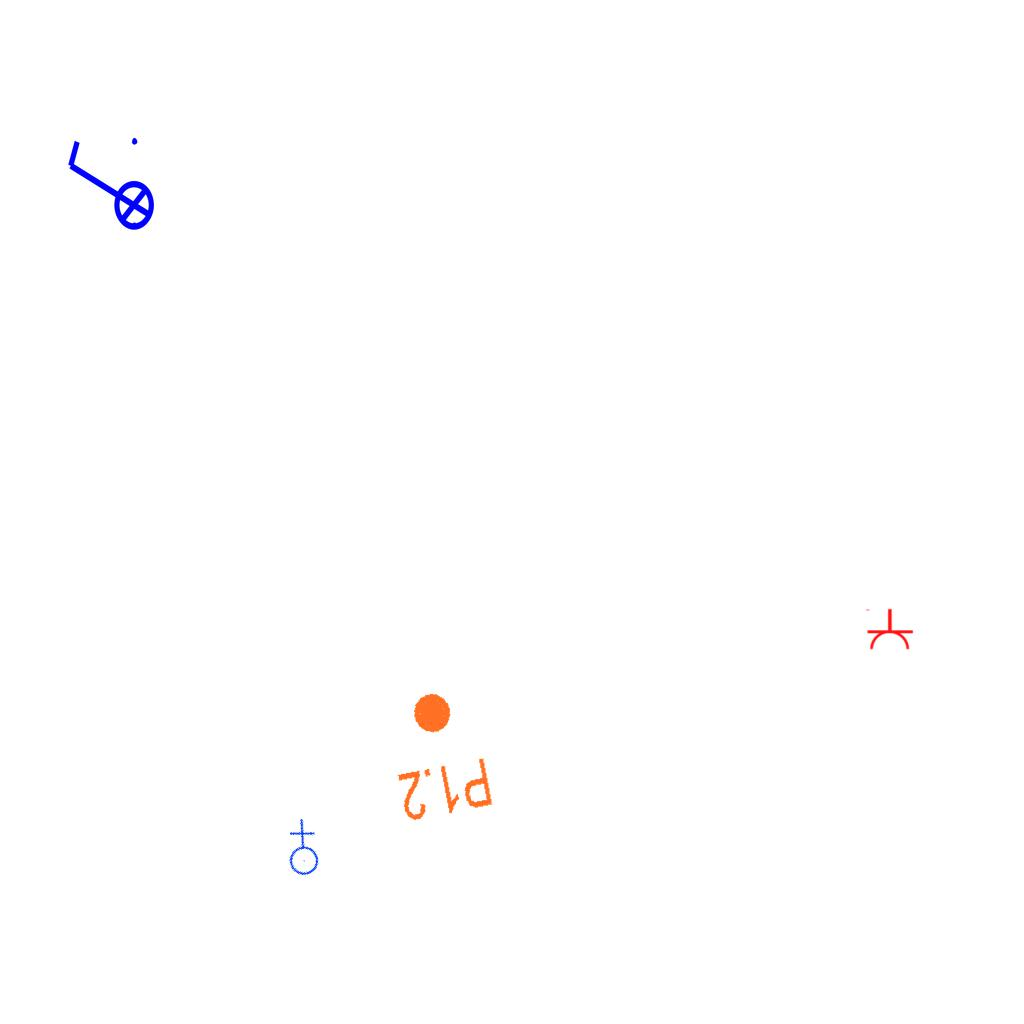Ausschalter_beleuchtet: (60, 132, 156, 244)
Downlight_LED_Einbauleuchten_Flur: (380, 682, 497, 826)
Elektroanschluss_allgemein_230V_Geraeteanschlussdose_230V: (267, 816, 336, 885)
Schukosteckdose_einfach: (864, 608, 914, 651)
